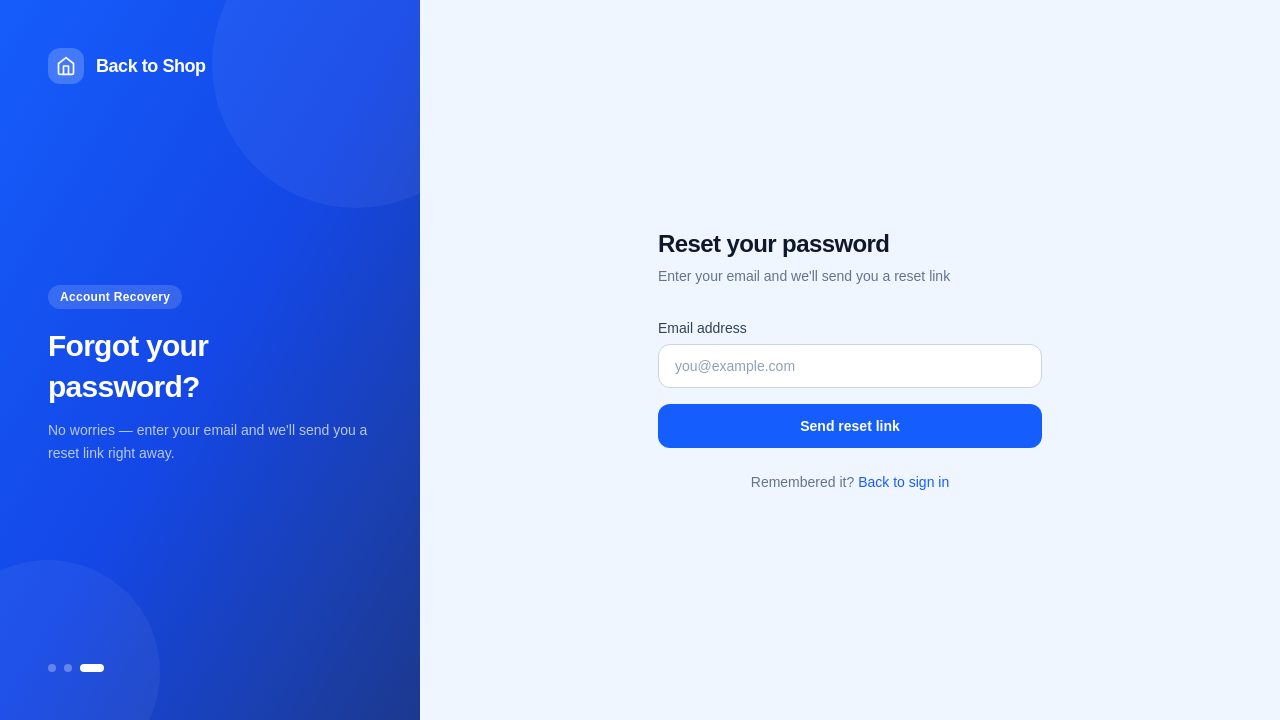
Test: ForgotPasswordPage — loading state › shows "Sending..." while the request is in flight
Type "user@test.com" into the field with placeholder "you@example.com".
click(850, 366); type("user@test.com")  # box [658,344,1042,388]
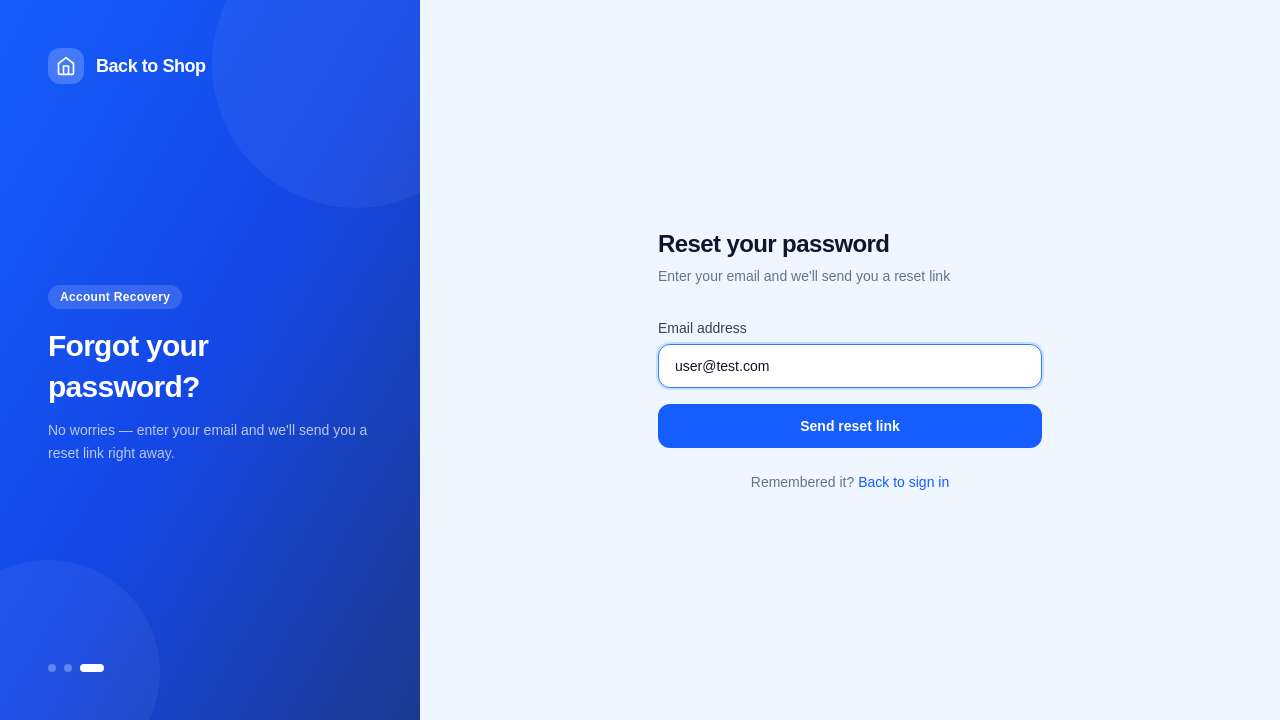
Click the button "Send reset link".
click(850, 426)  # box [658,404,1042,448]
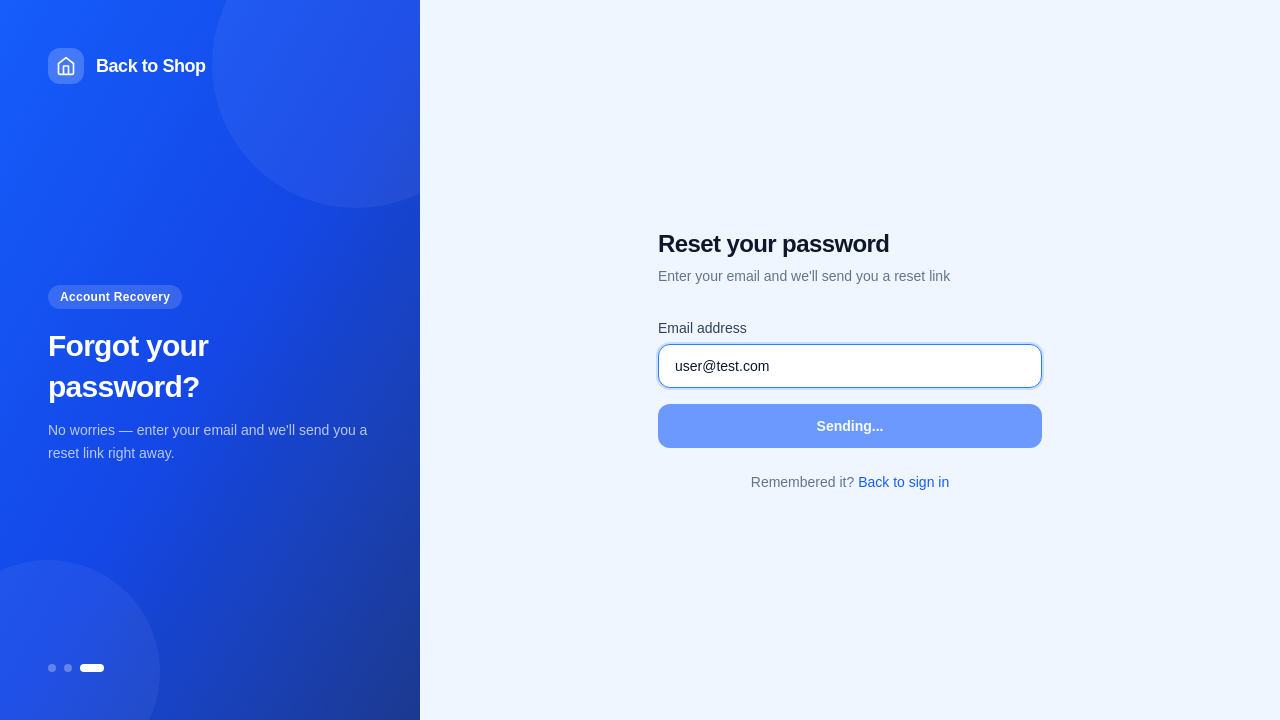
Check: the button "Sending..." is disabled, box [658,404,1042,448]
